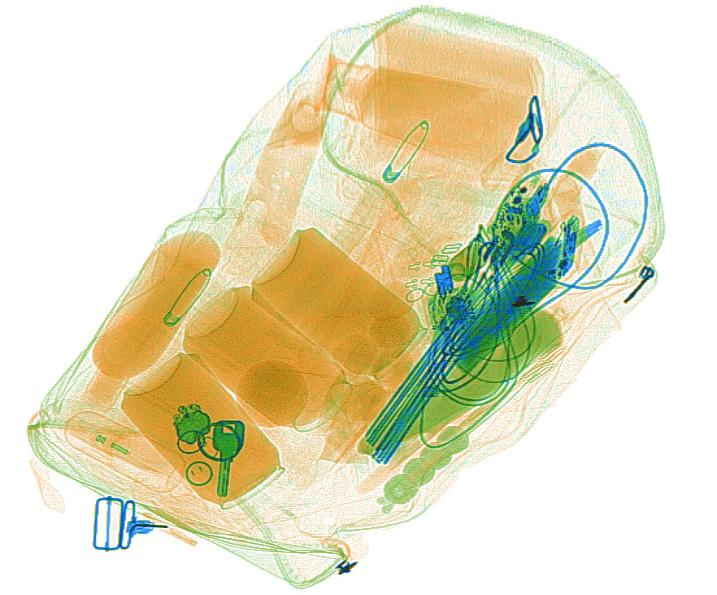plasticBottleWithaNozzle: (65, 411, 186, 493)
